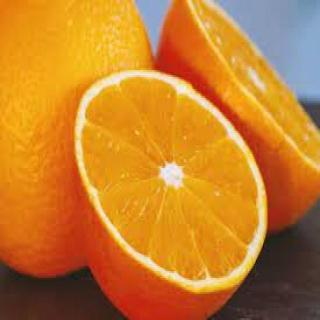orange: (68, 59, 283, 320), (0, 0, 158, 285), (150, 2, 318, 243)
